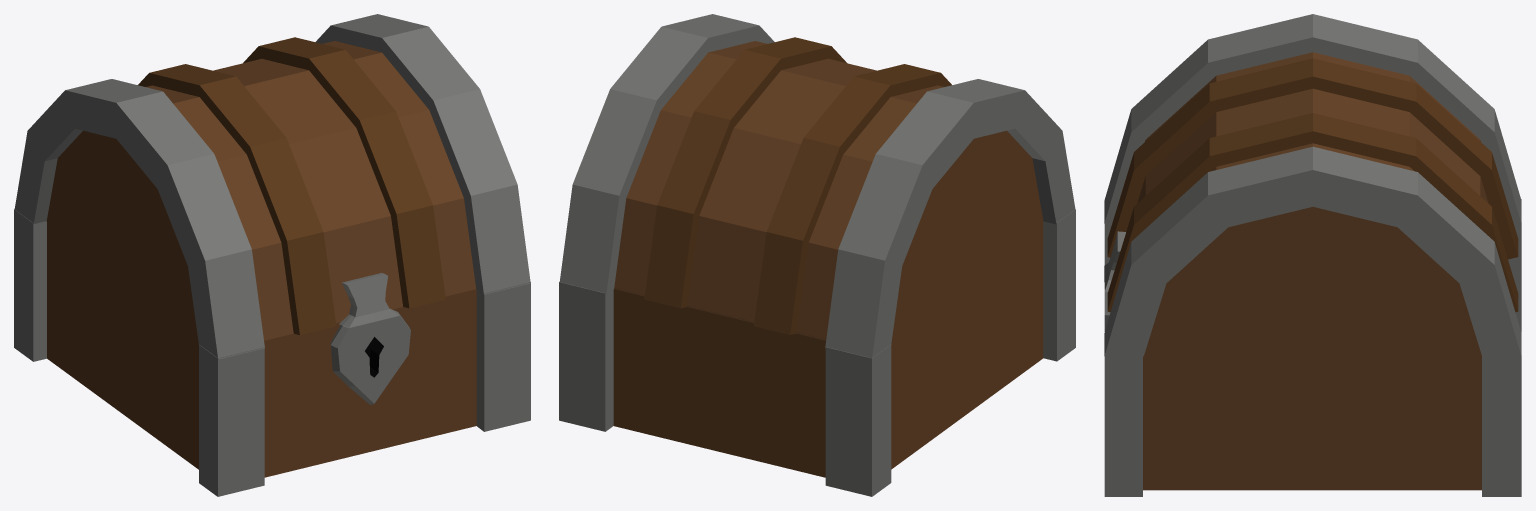
The model's file is Wooden_chest_closed.glb.
3 views of the same model, side by side, from view 1: azimuth 30°, elevation 25°; view 2: azimuth 150°, elevation 25°; view 3: azimuth 270°, elevation 25° (orthographic). The views are drawn at different scales.
Visible parts, largest first — view 1: Woode chest_closed; view 2: Woode chest_closed; view 3: Woode chest_closed.
Part boxes in pixels (left/top/right/bottom): Woode chest_closed: left=14, top=14, right=530, bottom=496; Woode chest_closed: left=559, top=14, right=1075, bottom=496; Woode chest_closed: left=1104, top=14, right=1521, bottom=496.
Size of the model in its own units: 0.0971 by 0.0947 by 0.1096.
1 material, 1 textured.
